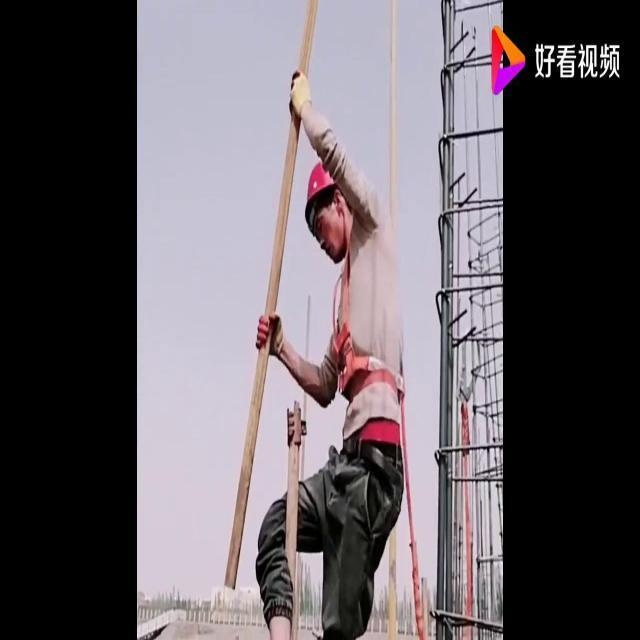Arnes_seguridad: (328, 230, 410, 415)
